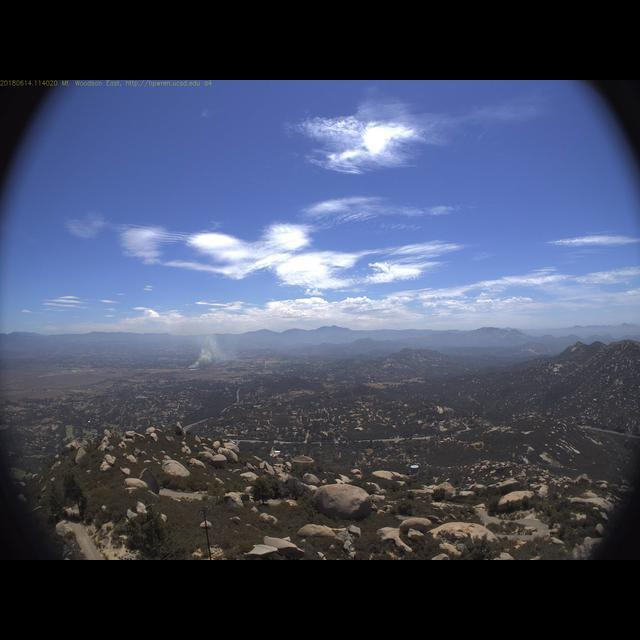Smoke: (183, 323, 238, 370)
